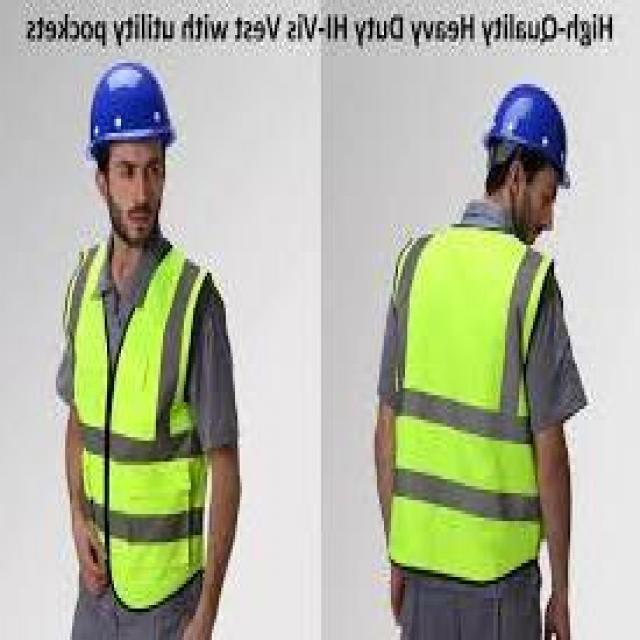reflective_jacket: (372, 223, 567, 587), (58, 234, 228, 611)
safety_helmet: (472, 73, 581, 199), (76, 52, 186, 164)
